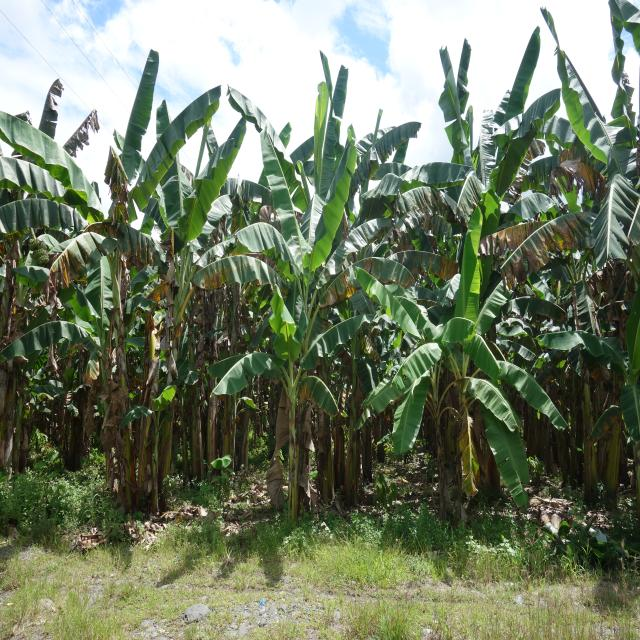Banana-plant: (109, 276, 130, 512), (282, 375, 303, 534)
